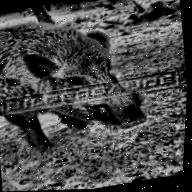boar: (0, 0, 158, 167)
